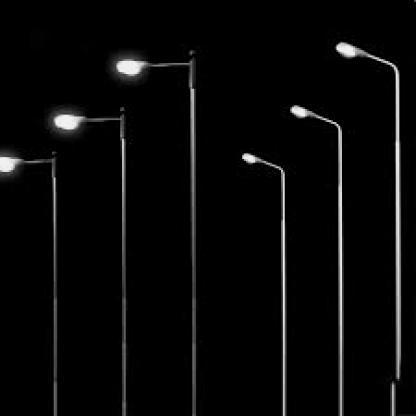light_pole: (115, 54, 198, 413), (333, 41, 407, 413), (54, 106, 132, 413), (288, 102, 346, 415), (2, 148, 60, 414), (241, 150, 289, 415)
